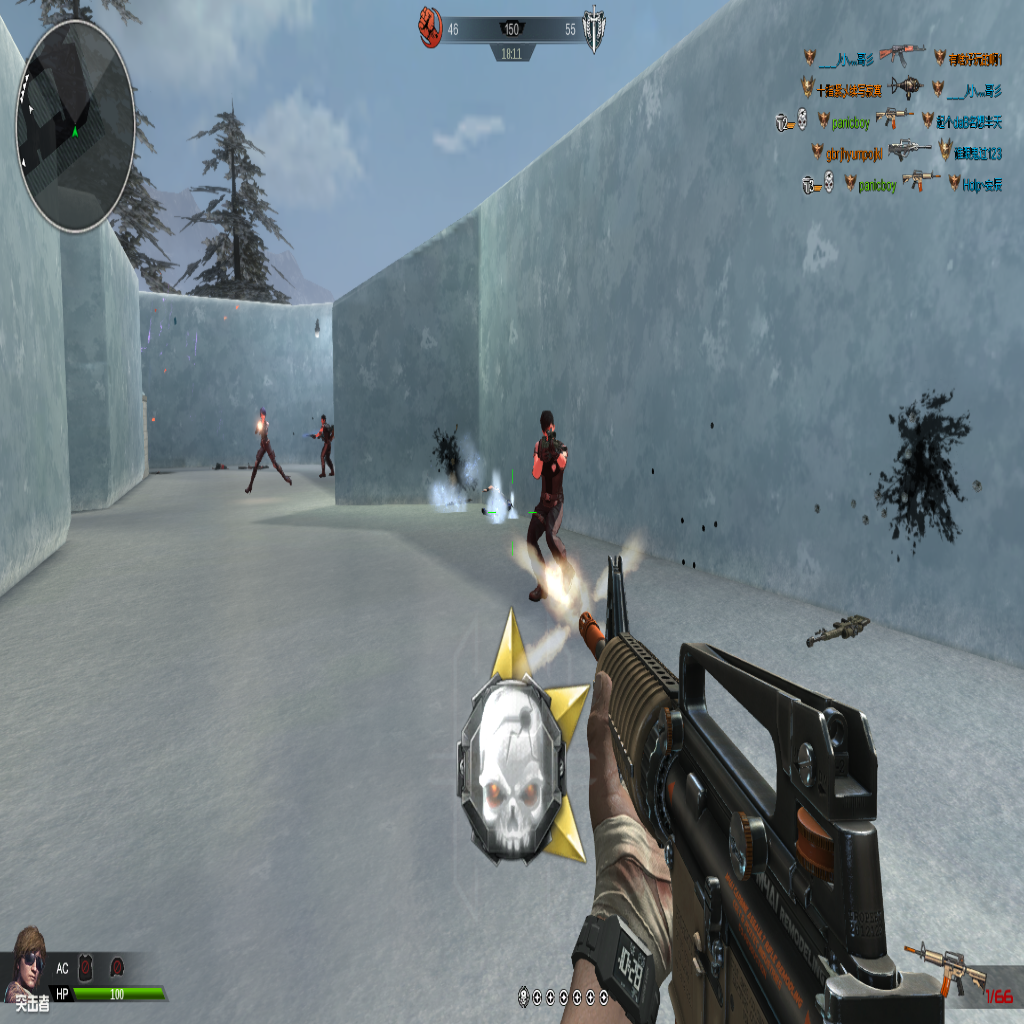ct: (524, 408, 570, 584), (245, 401, 291, 490), (313, 414, 335, 479)
